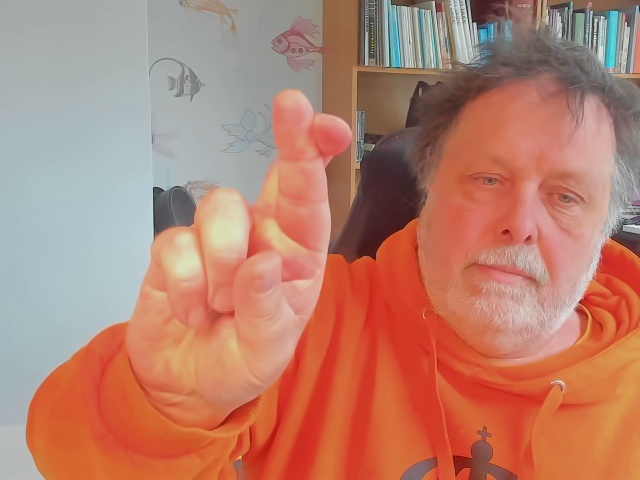fingers_crossed: (128, 88, 351, 418)
